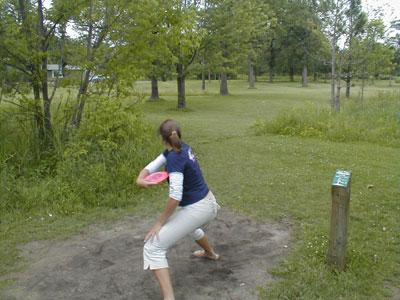person: (138, 119, 222, 300)
